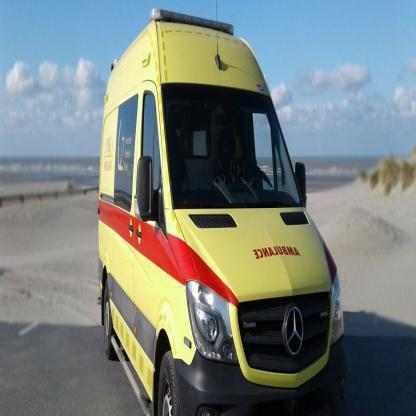Ambulance - v1 Ambulance last generate: (79, 0, 354, 414)
